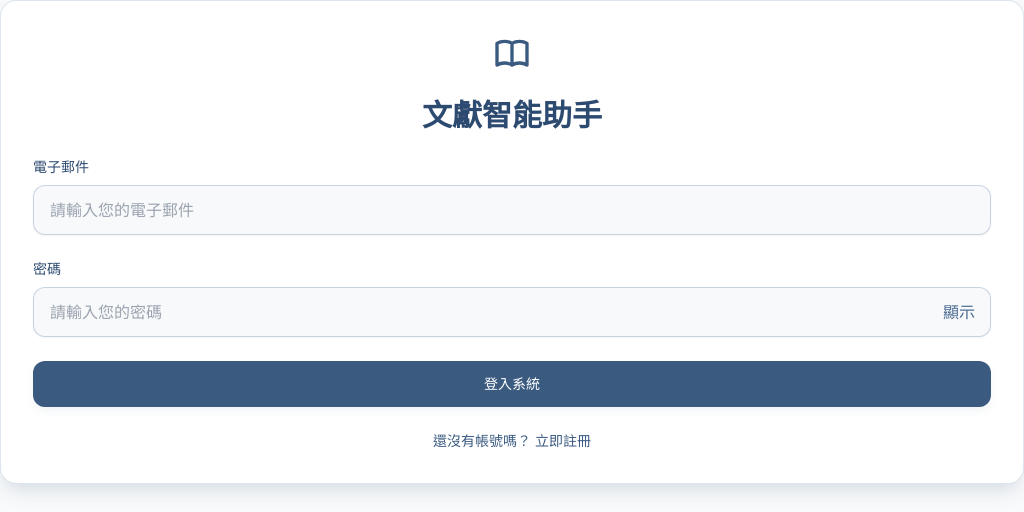
Test: LoginForm測試 › 登入過程中應該顯示載入狀態
Type "test@example.com" into the field with test id "login-email". click: (512,210)
box: [33,185,991,235]
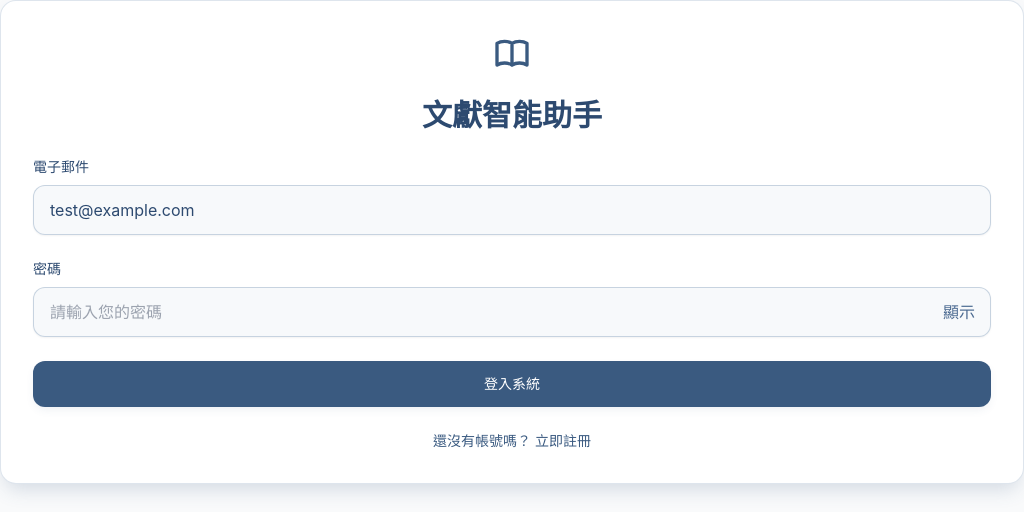
Type "password123" into the password field with test id "login-password". click: (512,312)
box: [33,287,991,337]
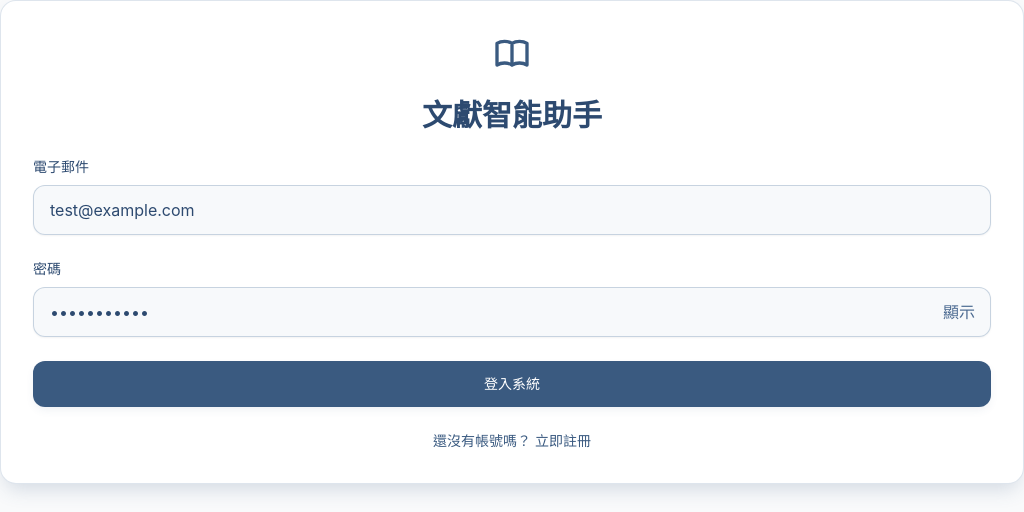
Click the button with test id "login-submit". click: (512,384)
box: [33,361,991,407]
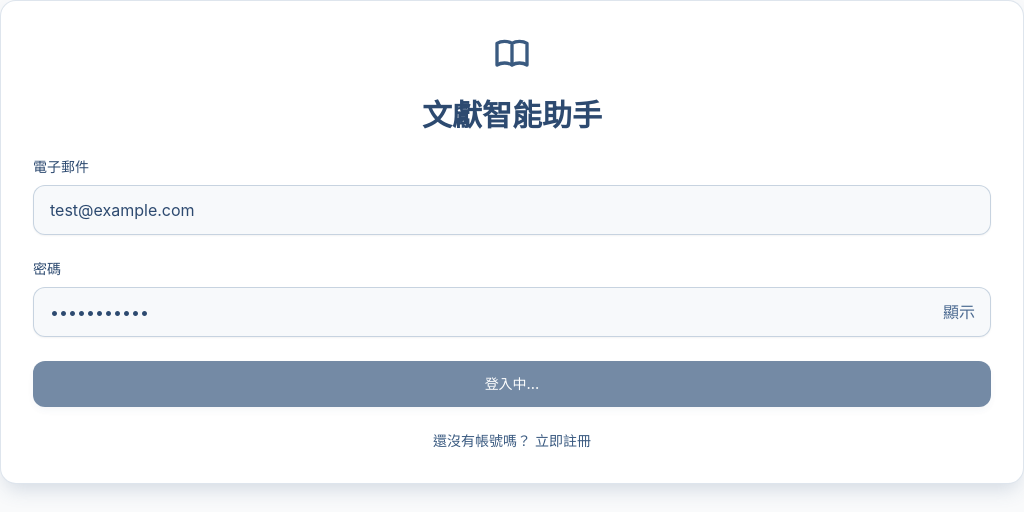
expect the button "登入中..." is disabled: met, box [33,361,991,407]
